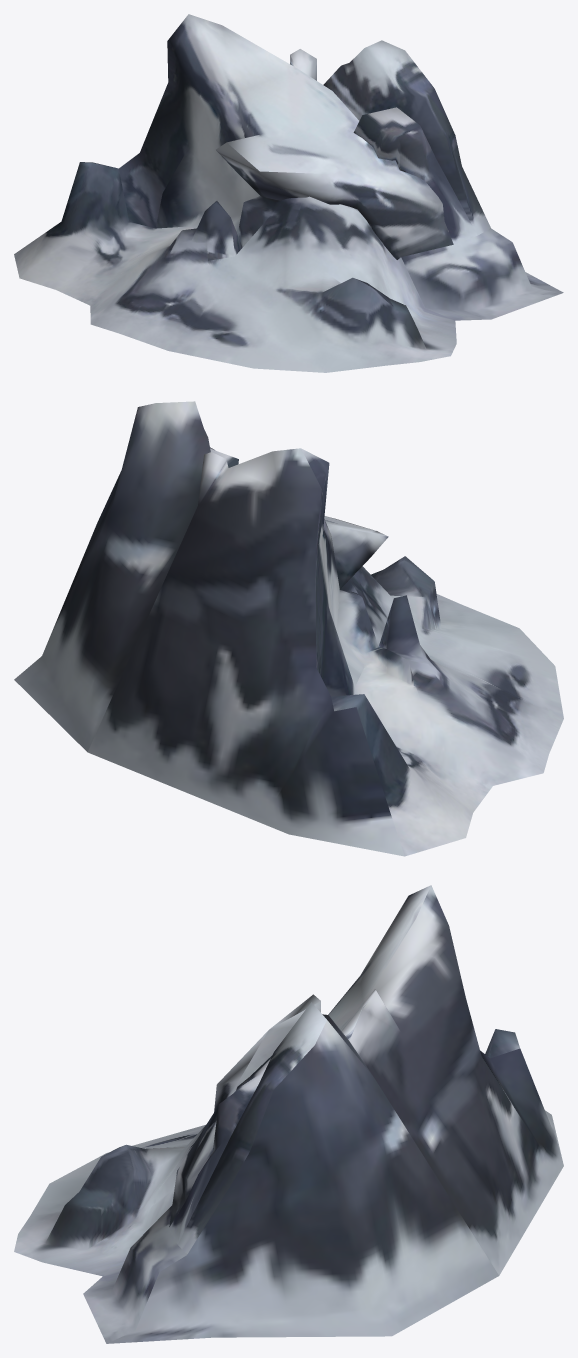
File: LGhuangyuan_shitou07.FBX
3 renders of one model, top to bottom at view 1: azimuth 30°, elevation 25°; view 2: azimuth 150°, elevation 25°; view 3: azimuth 270°, elevation 25°, orthographic. The views are drawn at different scales.
Parts seen in each view (by area): view 1: LGhuangyuan_shitou07; view 2: LGhuangyuan_shitou07; view 3: LGhuangyuan_shitou07.
Boxes of the visible parts, x1,y1,x2,y2 form: LGhuangyuan_shitou07: [14, 14, 563, 372]; LGhuangyuan_shitou07: [14, 401, 563, 856]; LGhuangyuan_shitou07: [14, 885, 563, 1343].
Bounding box in the file's own units: 101 × 96.98 × 59.88.
